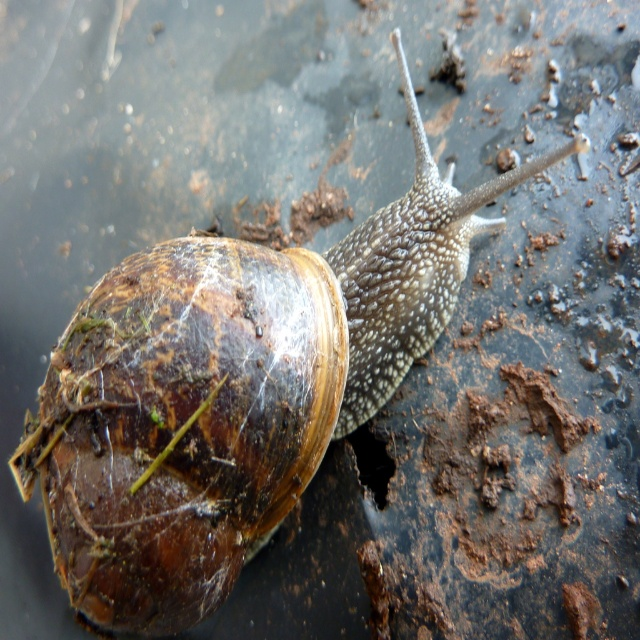Snail: (10, 20, 592, 639)
